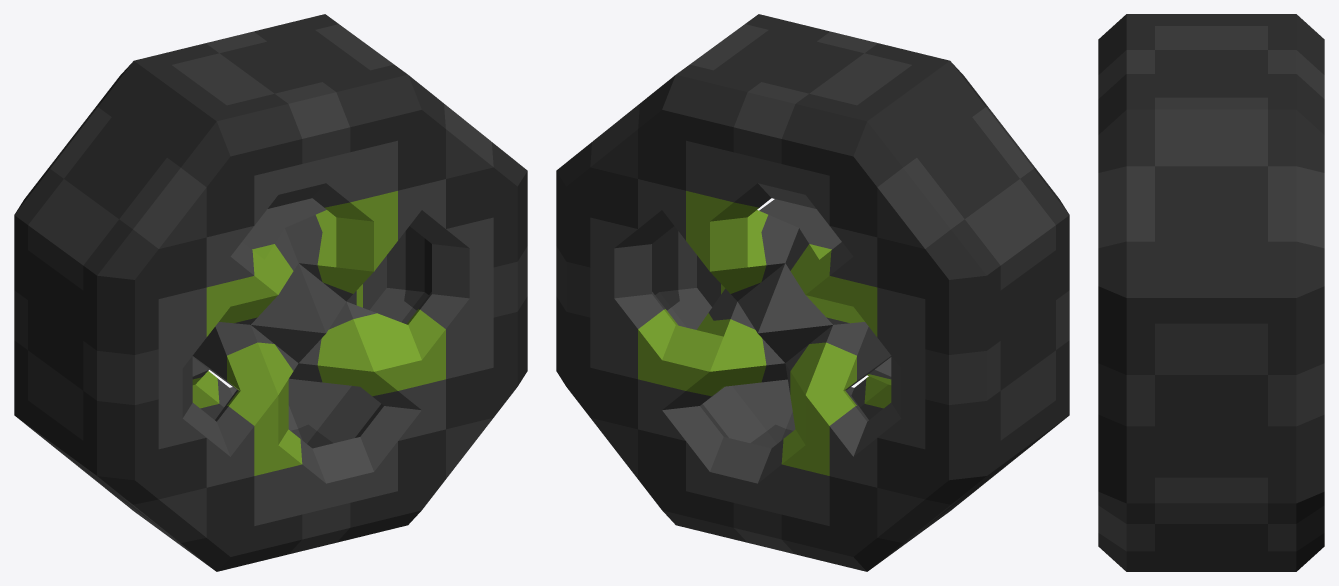
Rendered from rccar_wheelv2.fbx.
3 renders of one model, left to right at view 1: azimuth 30°, elevation 25°; view 2: azimuth 150°, elevation 25°; view 3: azimuth 270°, elevation 25°, orthographic. The views are drawn at different scales.
Parts seen in each view (by area): view 1: rccar_wheelV2; view 2: rccar_wheelV2; view 3: rccar_wheelV2.
Boxes of the visible parts, left/top/right/bottom form: rccar_wheelV2: left=14, top=14, right=527, bottom=571; rccar_wheelV2: left=556, top=14, right=1069, bottom=571; rccar_wheelV2: left=1098, top=14, right=1324, bottom=571.
Bounding box in the file's own units: 354 × 354 × 157.
